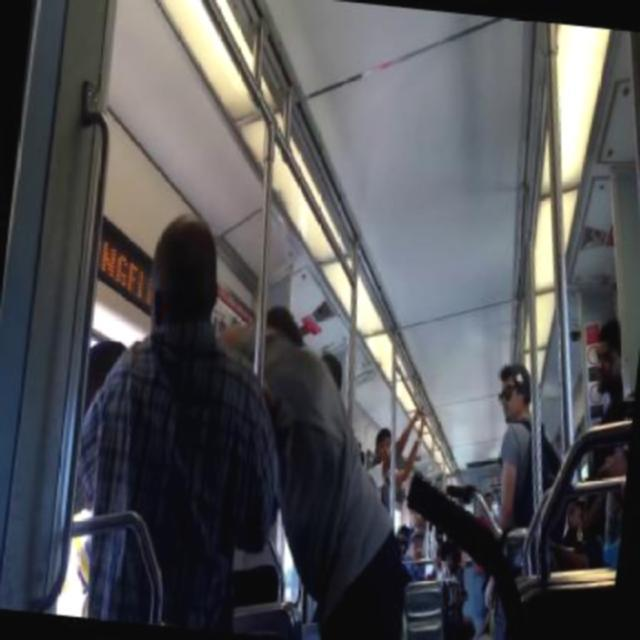non-fight: (480, 356, 569, 526)
